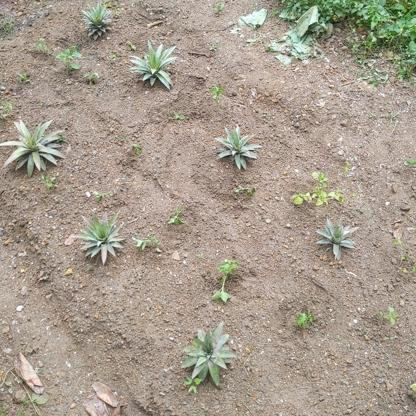pineapple: (178, 324, 239, 392), (1, 117, 64, 174), (125, 40, 184, 93), (76, 211, 126, 263), (212, 124, 263, 171), (316, 216, 360, 262), (80, 1, 120, 42)
weed: (33, 36, 101, 84), (290, 171, 346, 209), (211, 255, 243, 307), (129, 230, 166, 255), (296, 302, 324, 334), (164, 207, 195, 235)
